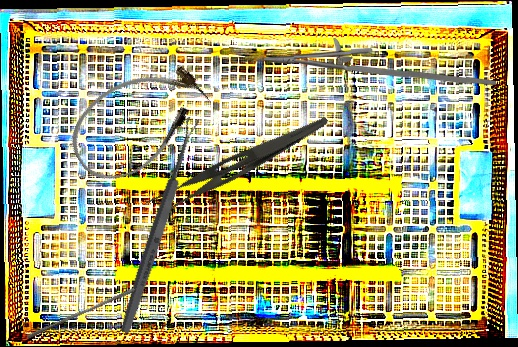Cannula: (55, 46, 221, 196)
Dressing Forceps: (142, 97, 331, 227)
Needle Holder: (263, 34, 497, 91)
Pusher: (25, 283, 137, 344)
Surgical Spoon: (117, 116, 202, 335)
